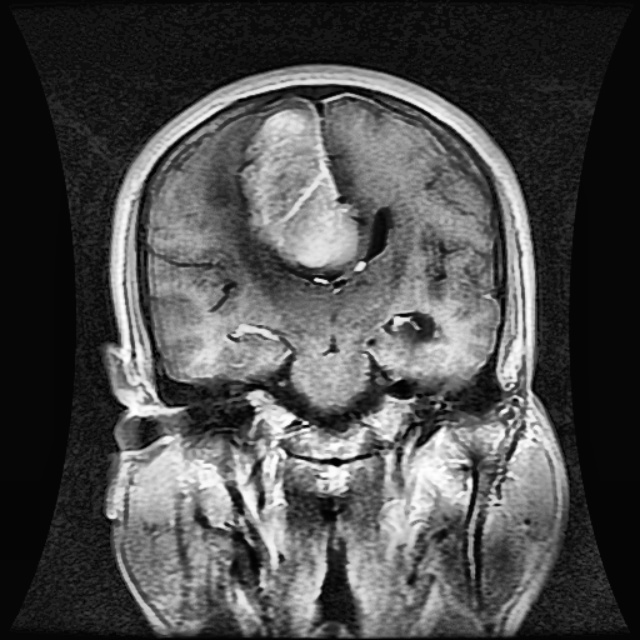Glioma: (238, 105, 358, 274)
